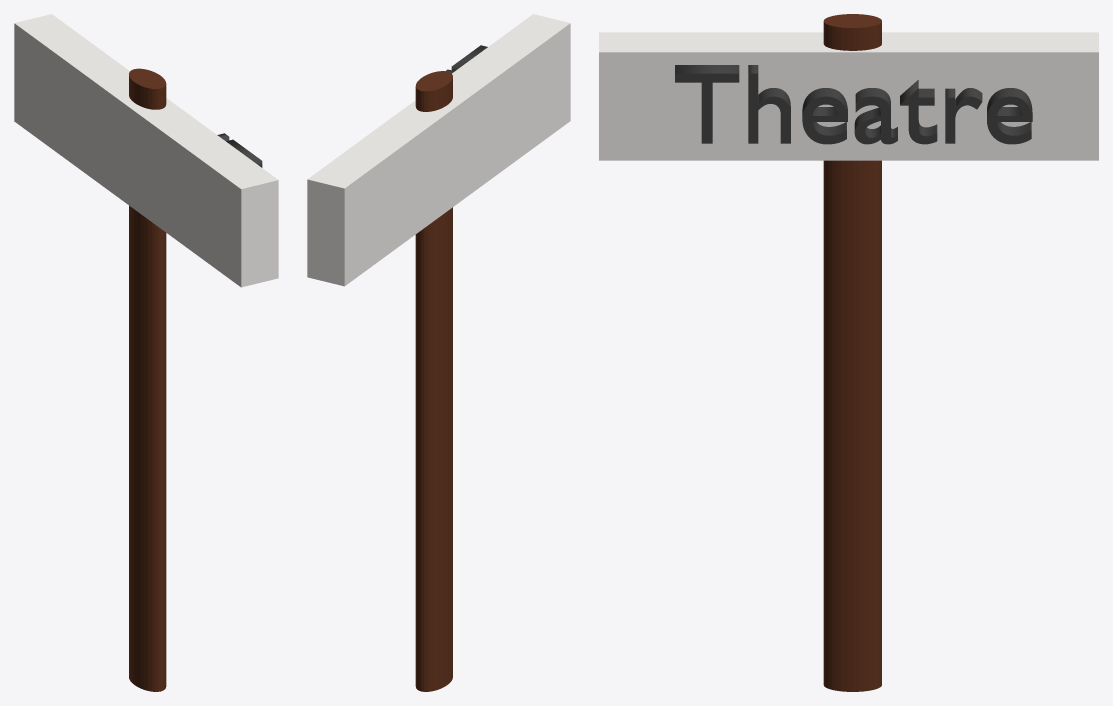
The model's file is theatreSign.glb.
3 views of the same model, side by side, from view 1: azimuth 30°, elevation 25°; view 2: azimuth 150°, elevation 25°; view 3: azimuth 270°, elevation 25° (orthographic). The views are drawn at different scales.
Visible parts, largest first — view 1: Cube, Cylinder; view 2: Cube, Cylinder; view 3: Cube, Cylinder, Text.
Part boxes in pixels (left/top/right/bottom): Cube: left=14, top=14, right=278, bottom=287; Cylinder: left=129, top=68, right=166, bottom=691; Cube: left=307, top=14, right=570, bottom=286; Cylinder: left=415, top=71, right=452, bottom=691; Cube: left=599, top=32, right=1098, bottom=160; Cylinder: left=823, top=14, right=881, bottom=691; Text: left=675, top=65, right=1032, bottom=144.
Bounding box in the file's own units: 0.339 × 3.51 × 2.39.
